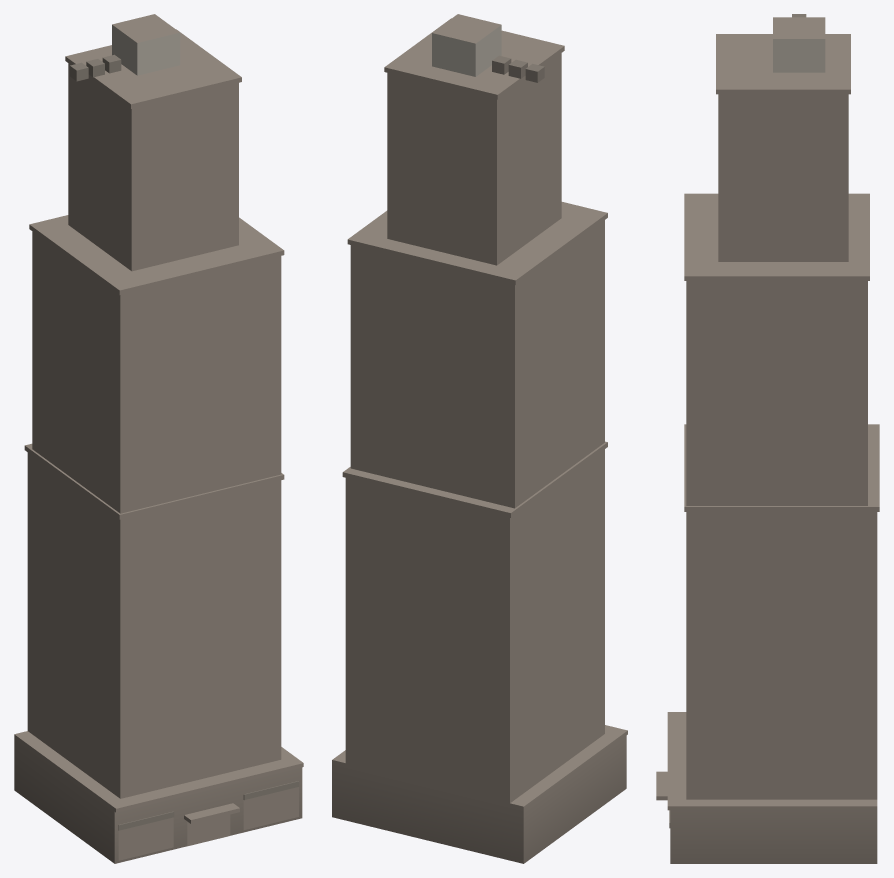
The model's file is tower_office_c.glb.
3 views of the same model, side by side, from view 1: azimuth 30°, elevation 25°; view 2: azimuth 150°, elevation 25°; view 3: azimuth 270°, elevation 25° (orthographic). The views are drawn at different scales.
Visible parts, largest first — view 1: tower_office_c; view 2: tower_office_c; view 3: tower_office_c.
Part boxes in pixels (x1,y1,x2,y2): tower_office_c: (14,14,303,863); tower_office_c: (332,14,627,863); tower_office_c: (656,14,879,863).
Size of the model in its own units: 25.2 by 98.4 by 25.25.
